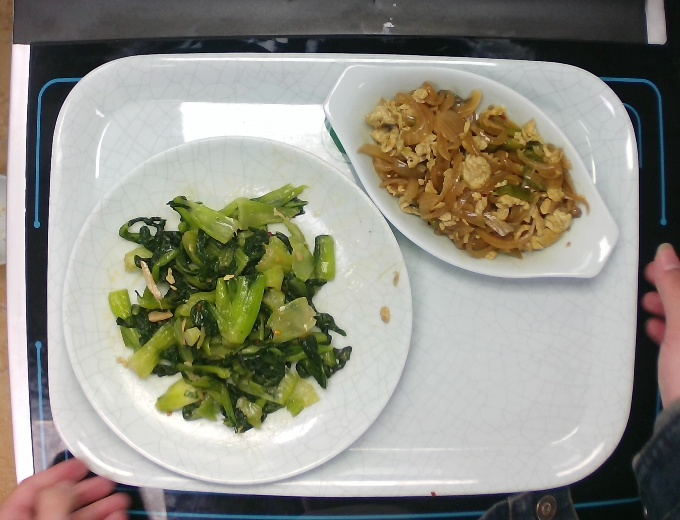JYsf-Da_Yuan_Pan: (60, 133, 414, 488)
JYsf-Yu_Pan: (323, 60, 623, 284)
